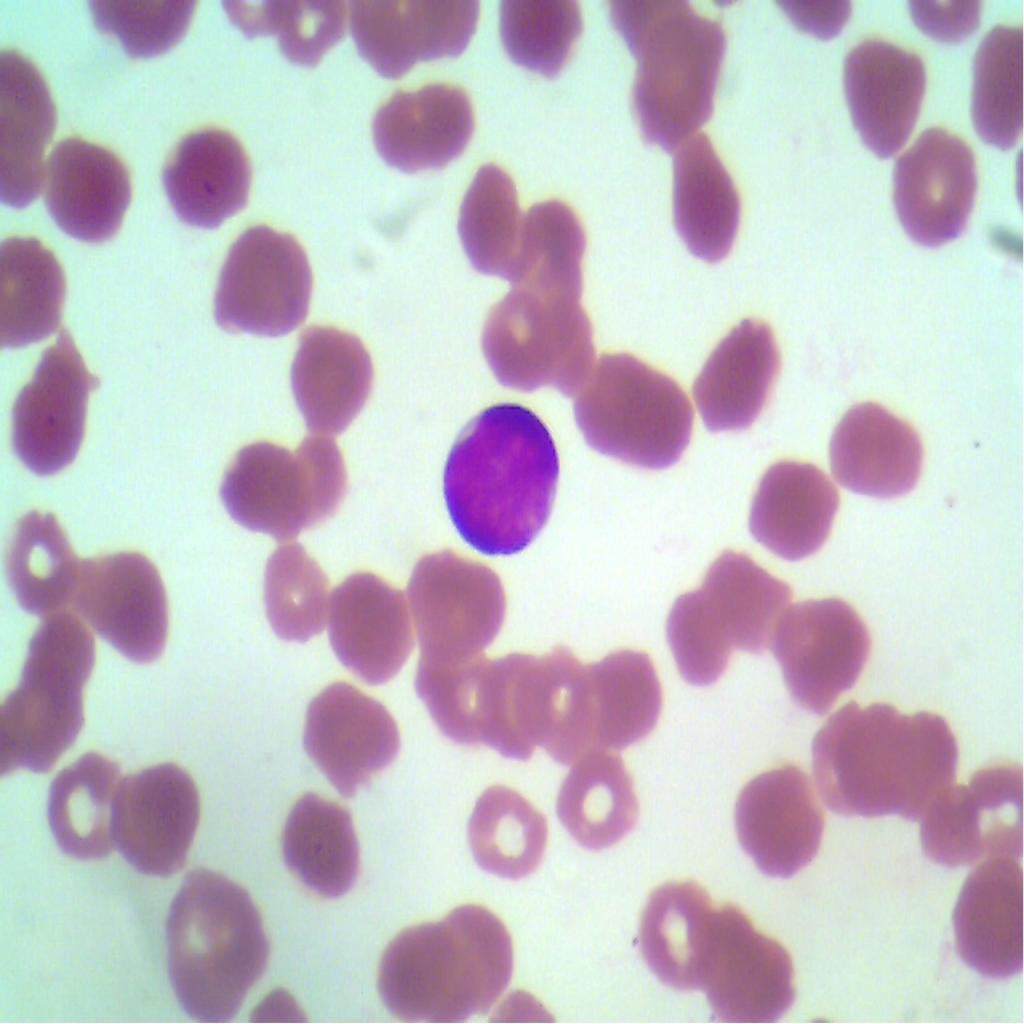Eritrosit: (155, 858, 266, 1023), (2, 324, 104, 489), (621, 0, 722, 165), (838, 18, 935, 174), (574, 361, 694, 478), (63, 547, 180, 666), (660, 122, 752, 272), (742, 441, 845, 574), (688, 904, 803, 1023), (425, 878, 519, 1021), (300, 664, 399, 799), (210, 218, 315, 344), (160, 118, 263, 241), (890, 121, 982, 258), (319, 556, 419, 682), (365, 71, 467, 191), (935, 851, 1023, 989), (774, 592, 872, 715), (688, 314, 780, 444), (402, 541, 506, 655), (728, 758, 826, 878), (40, 131, 135, 254), (370, 917, 478, 1023), (282, 326, 378, 438), (405, 625, 492, 748), (710, 545, 802, 660), (108, 758, 198, 875), (0, 668, 90, 784), (0, 238, 93, 349), (874, 704, 960, 821), (832, 397, 925, 504), (282, 782, 362, 905), (518, 642, 602, 759), (250, 538, 332, 655), (638, 874, 722, 988), (653, 572, 732, 691), (812, 694, 892, 811), (0, 504, 86, 611), (550, 748, 639, 851), (583, 645, 667, 751), (215, 445, 306, 542), (45, 748, 123, 861), (456, 142, 522, 271), (473, 657, 552, 764), (510, 192, 588, 294), (465, 792, 550, 881), (10, 616, 92, 707), (522, 298, 598, 396), (270, 431, 348, 525), (954, 749, 1024, 852), (480, 287, 548, 387), (915, 776, 982, 874)
Limfoblast: (438, 399, 562, 559)
